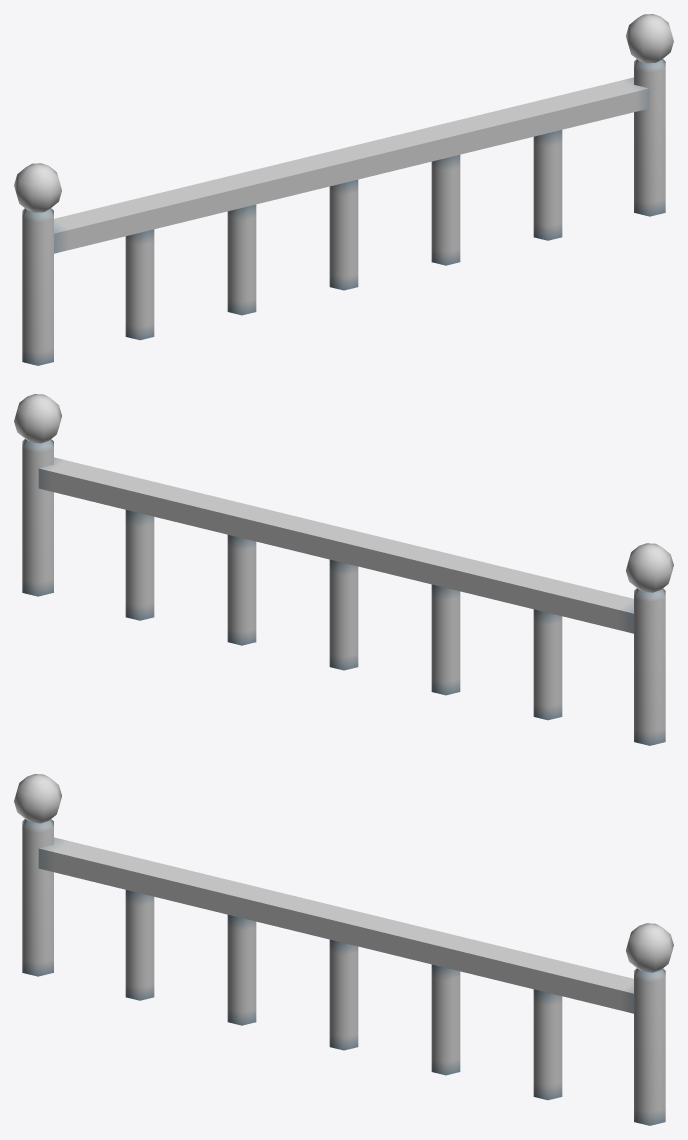
Rendered from fence-wood.glb.
3 renders of one model, top to bottom at view 1: azimuth 30°, elevation 25°; view 2: azimuth 150°, elevation 25°; view 3: azimuth 330°, elevation 25°, orthographic.
Visible parts, largest first — view 1: fence-wood; view 2: fence-wood; view 3: fence-wood.
Boxes of the visible parts, x1,y1,x2,y2 form: fence-wood: [14, 14, 673, 365]; fence-wood: [14, 394, 673, 745]; fence-wood: [14, 774, 673, 1125].
Bounding box in the file's own units: 2.73 × 0.7679 × 0.18.
